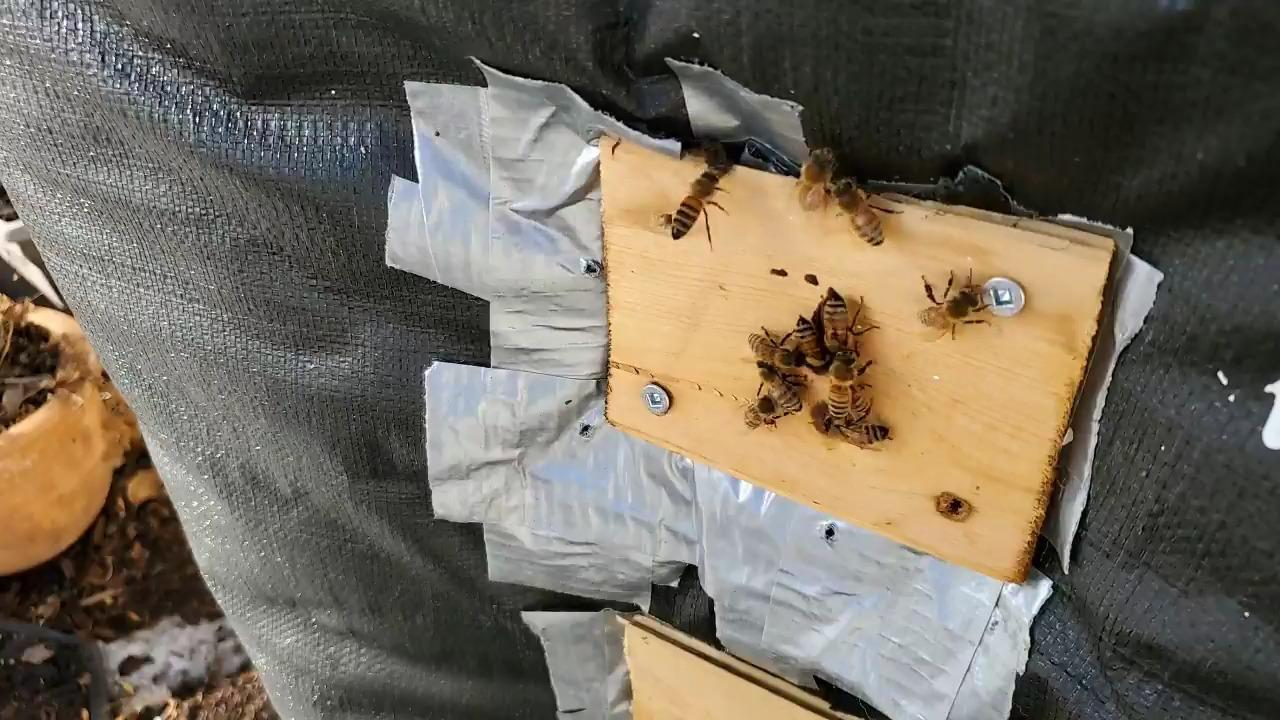bee: (671, 171, 718, 239), (834, 182, 884, 244), (917, 289, 980, 325), (759, 362, 802, 410), (800, 150, 833, 207), (829, 352, 856, 418), (748, 334, 799, 367), (823, 292, 851, 351), (826, 418, 887, 443), (796, 316, 822, 365), (745, 400, 785, 430), (843, 378, 870, 417)
